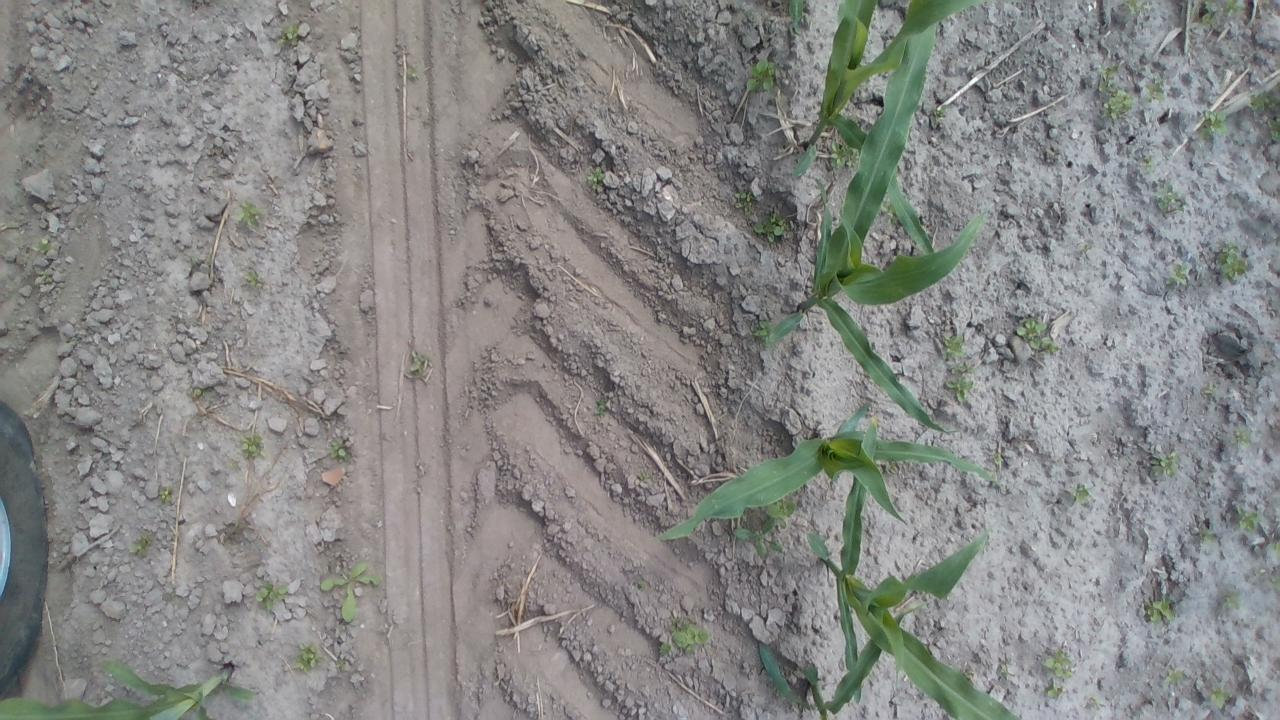Maize: (653, 402, 1006, 592), (764, 176, 990, 444), (791, 0, 990, 256), (806, 527, 1022, 720), (756, 604, 928, 720), (0, 658, 258, 720)
Weeds: (318, 555, 382, 624), (733, 518, 786, 560), (670, 616, 713, 656), (1245, 90, 1280, 139), (1192, 0, 1244, 32), (1216, 240, 1252, 284), (1015, 318, 1059, 354), (752, 206, 792, 244), (251, 575, 292, 611), (743, 57, 777, 96), (944, 363, 977, 402), (292, 642, 327, 674), (1040, 648, 1074, 680), (1154, 181, 1186, 214), (1102, 88, 1134, 121), (232, 199, 265, 231), (767, 495, 796, 529), (1149, 447, 1180, 478), (828, 140, 860, 170), (1144, 595, 1176, 625), (1197, 109, 1226, 138), (124, 532, 155, 558), (942, 334, 972, 360), (579, 164, 607, 191), (270, 21, 299, 47), (750, 318, 776, 346), (239, 432, 266, 458), (1096, 63, 1118, 93), (408, 350, 432, 377), (328, 437, 352, 463), (1214, 592, 1240, 616), (1166, 262, 1189, 288), (1142, 78, 1165, 104), (1208, 686, 1232, 710), (732, 190, 753, 216), (1120, 0, 1152, 17), (32, 238, 58, 256), (1236, 510, 1259, 530), (189, 388, 214, 406), (1070, 484, 1091, 505), (1232, 428, 1250, 448), (1166, 664, 1184, 684), (1198, 528, 1217, 546), (332, 657, 352, 673), (863, 416, 881, 433), (406, 63, 424, 80), (241, 270, 258, 288), (158, 487, 175, 505), (593, 398, 610, 416), (1043, 685, 1065, 698), (1200, 382, 1216, 398), (927, 106, 945, 120), (1141, 156, 1155, 173), (34, 267, 49, 281), (657, 642, 672, 656), (1270, 574, 1280, 594), (226, 456, 240, 470), (1078, 243, 1094, 253), (638, 470, 650, 481), (1270, 542, 1280, 555), (1088, 696, 1100, 705), (1000, 661, 1009, 673), (992, 456, 1004, 464), (963, 670, 972, 679)
